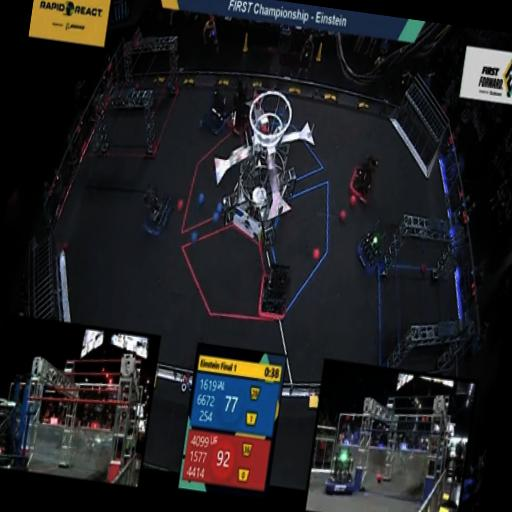robot: (251, 255, 300, 324), (350, 216, 392, 280), (136, 176, 178, 240), (198, 75, 240, 138), (344, 142, 383, 205), (223, 84, 256, 134)
